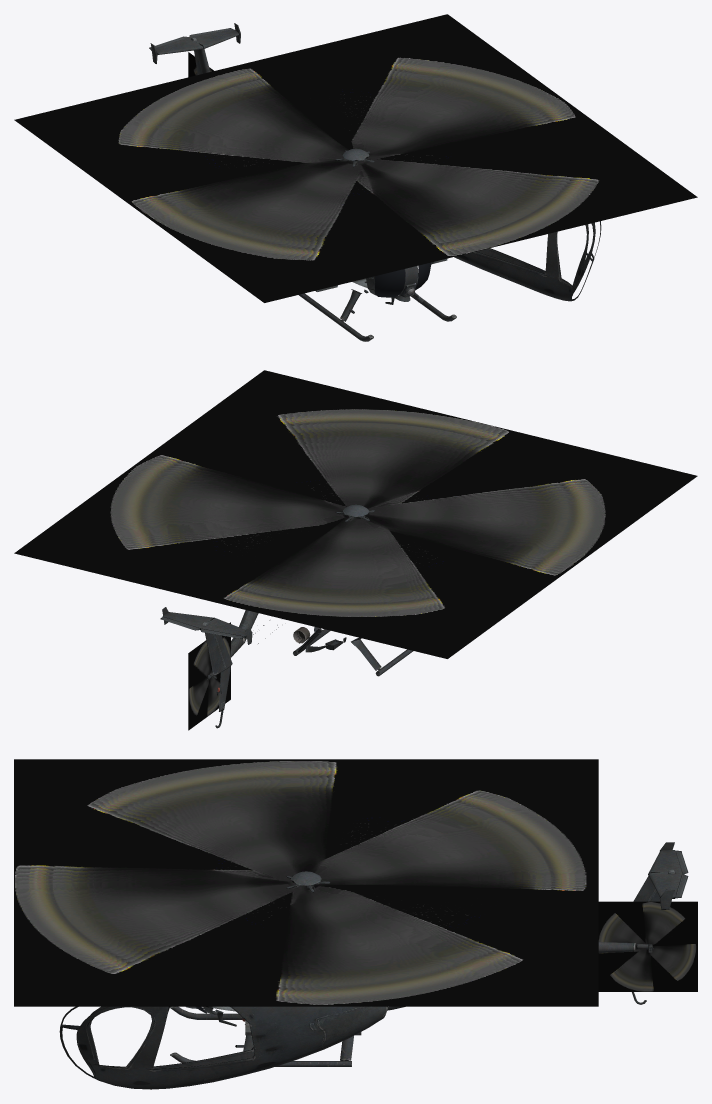
Rendered from testHeli1.fbx.
3 views of the same model, one above another, from view 1: azimuth 30°, elevation 25°; view 2: azimuth 150°, elevation 25°; view 3: azimuth 270°, elevation 25° (orthographic). The views are drawn at different scales.
Visible parts, largest first — view 1: ah6rotor01, ah6ext_m04, ah6ext_m01, ah6glass_m; view 2: ah6rotor01, ah6ext_m01, ah6rotor_m; view 3: ah6rotor01, ah6ext_m04, ah6rotor_m, ah6ext_m01.
Boxes of the visible parts, bbox=[...] form: ah6rotor01: bbox=[14, 14, 697, 302]; ah6ext_m04: bbox=[454, 221, 601, 301]; ah6ext_m01: bbox=[149, 23, 456, 341]; ah6glass_m: bbox=[374, 262, 431, 297]; ah6rotor01: bbox=[14, 370, 697, 658]; ah6ext_m01: bbox=[160, 607, 413, 728]; ah6rotor_m: bbox=[188, 622, 230, 730]; ah6rotor01: bbox=[14, 759, 598, 1006]; ah6ext_m04: bbox=[59, 942, 635, 1089]; ah6rotor_m: bbox=[598, 901, 697, 991]; ah6ext_m01: bbox=[170, 842, 688, 1066].
Bounding box in the file's own units: 842 × 276 × 985.
